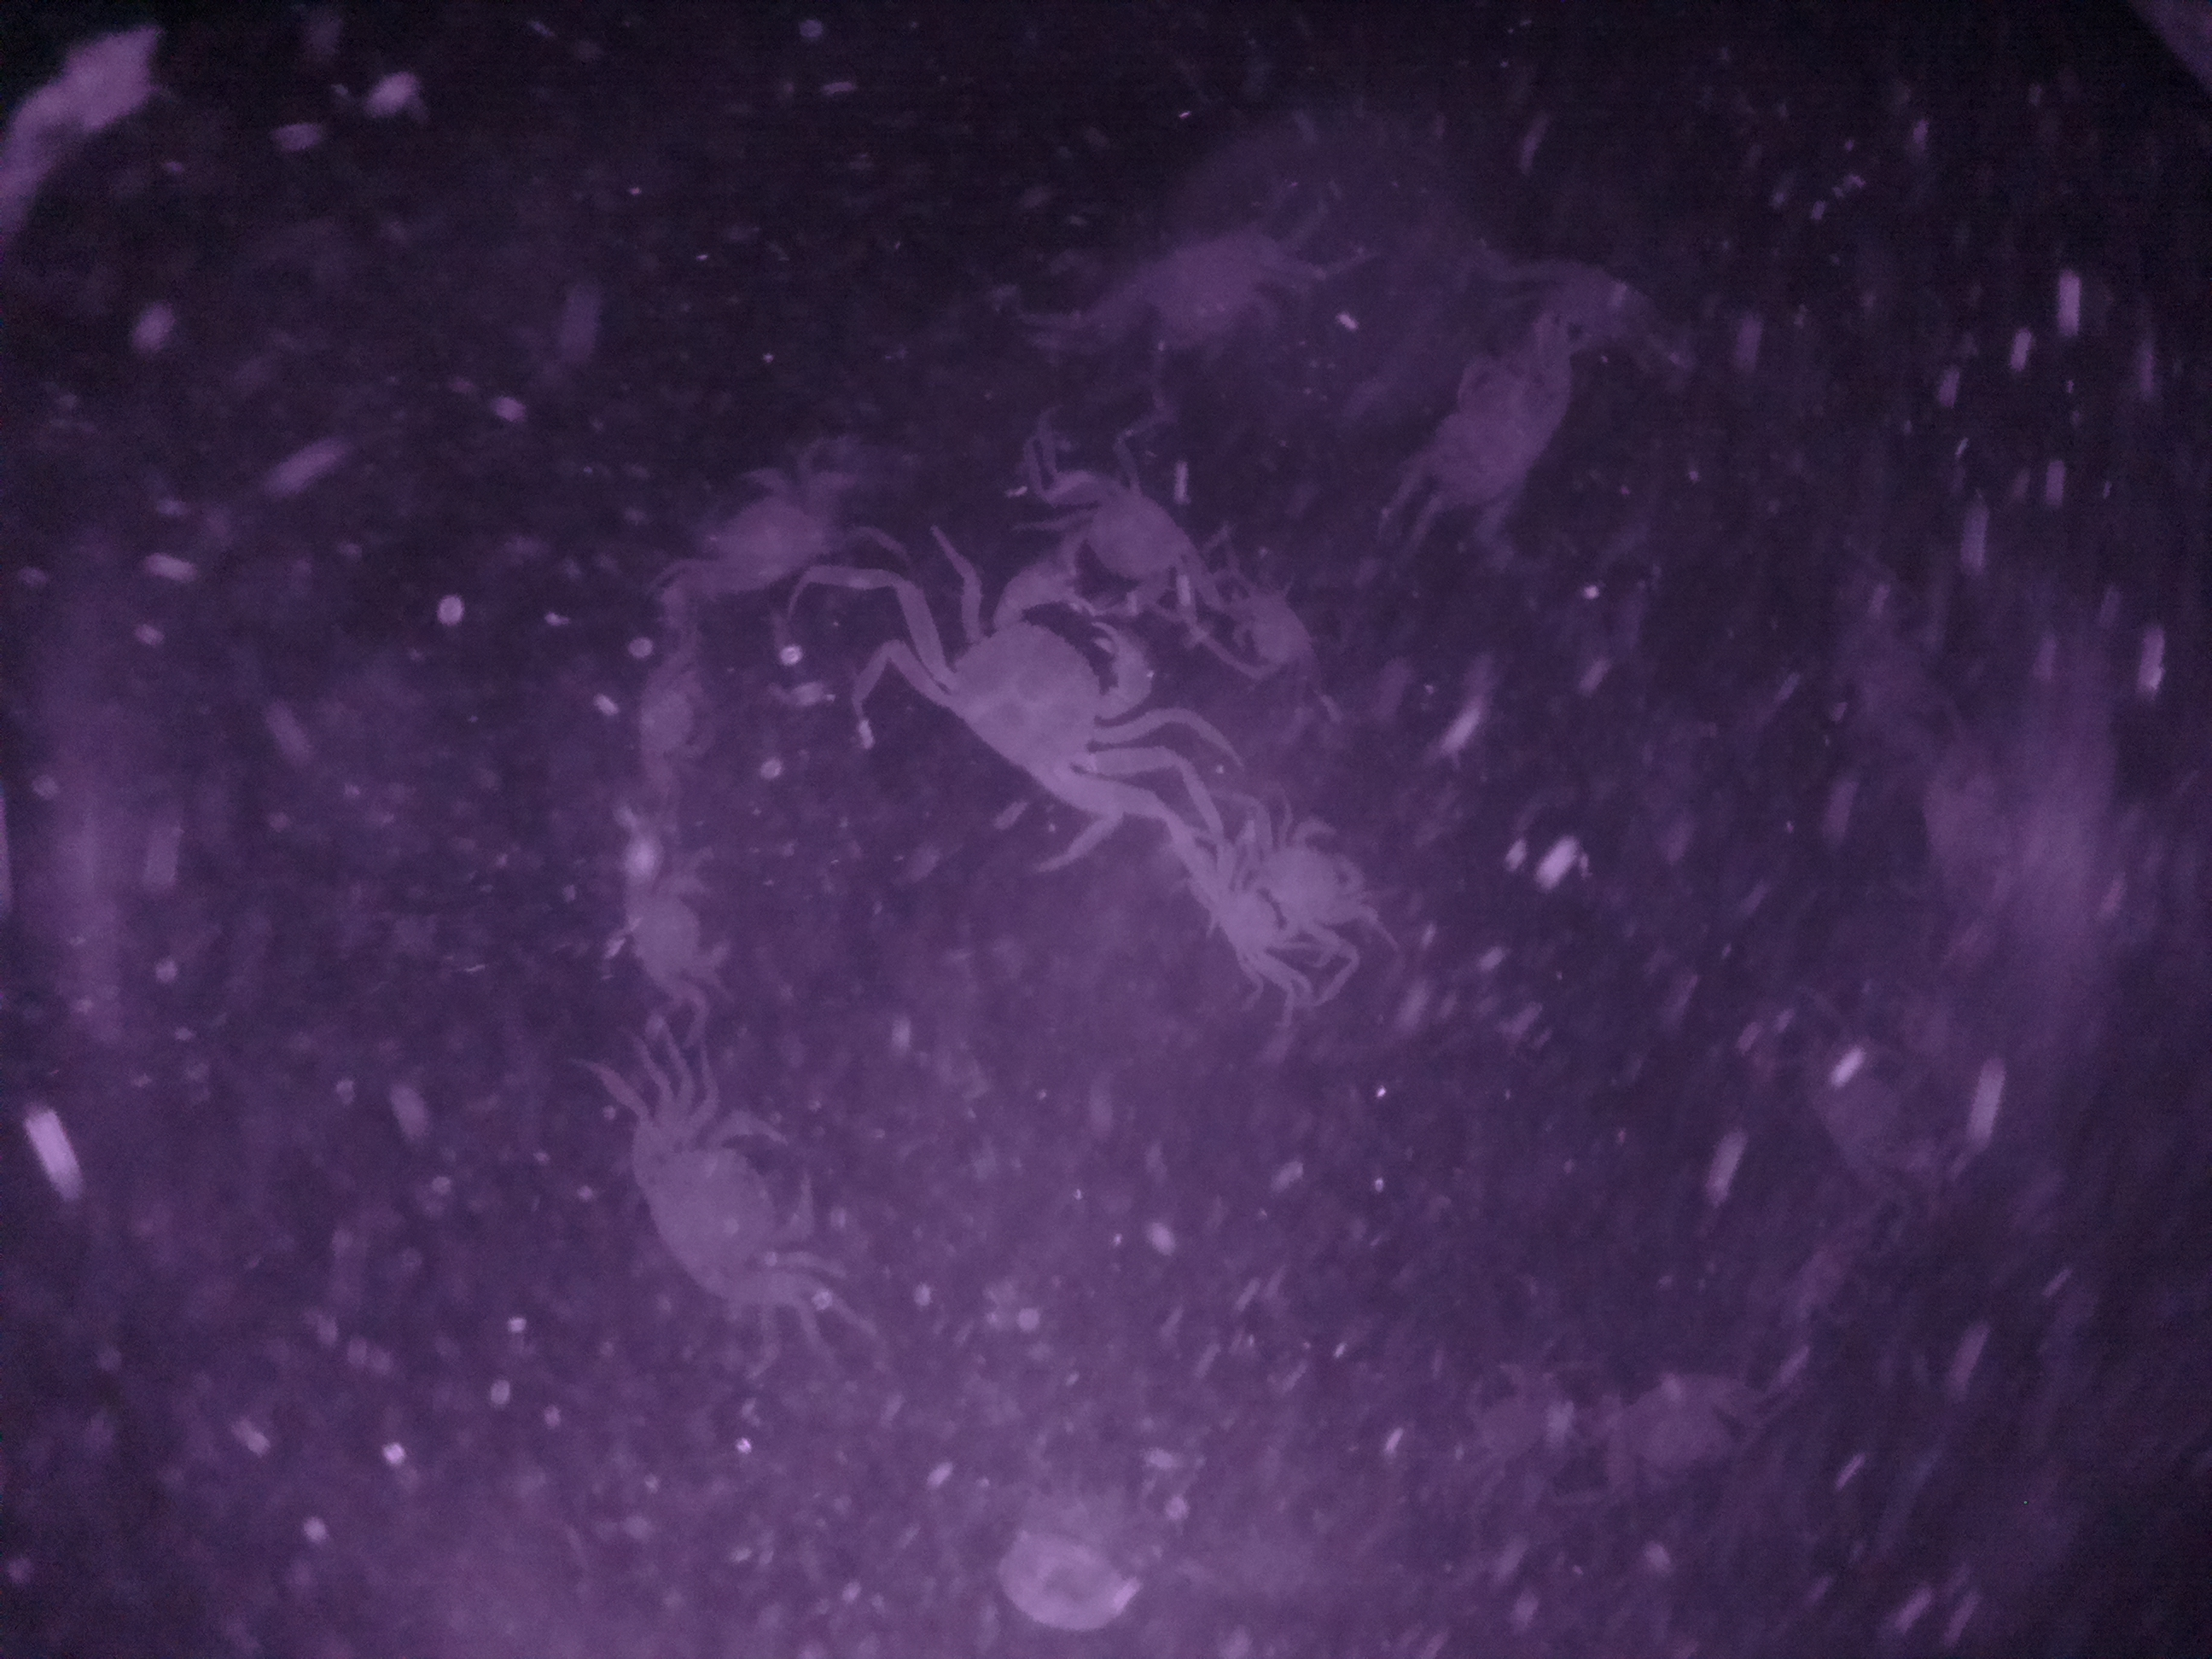Crab: (916, 565, 1165, 831), (615, 1082, 824, 1337), (1026, 458, 1214, 641), (1259, 796, 1378, 946), (1188, 859, 1280, 993)
